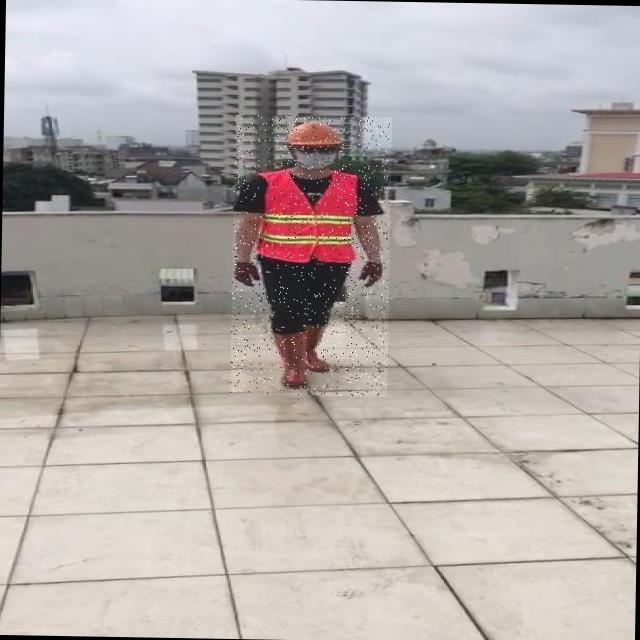Gloves: (236, 259, 267, 289), (362, 261, 385, 289)
Helmet: (287, 120, 347, 147)
Human: (230, 115, 393, 397)
Safety Boot: (274, 329, 313, 388), (305, 323, 340, 372)
Safety Vest: (264, 168, 359, 263)
